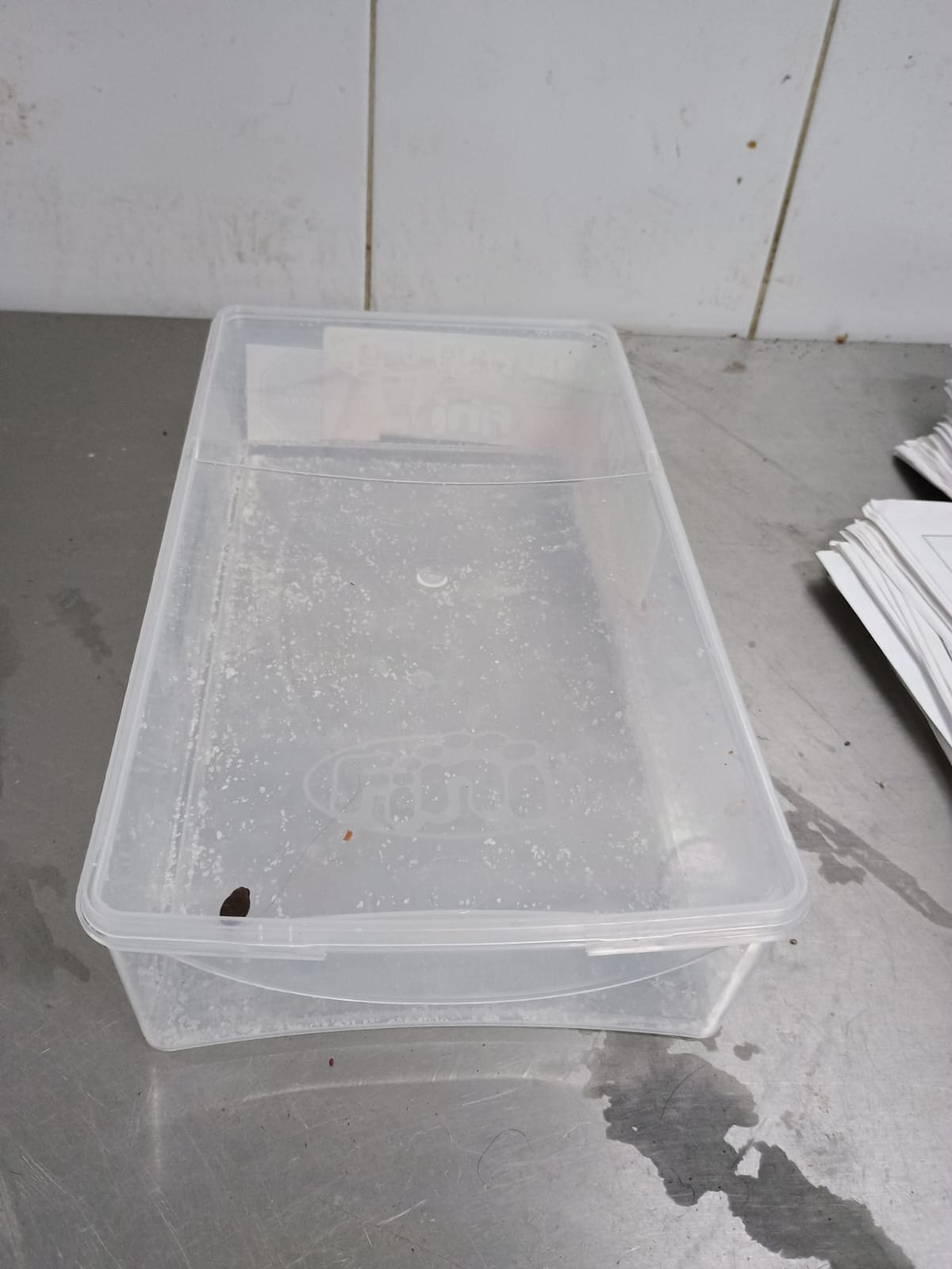Plastico: (71, 310, 813, 1050)
